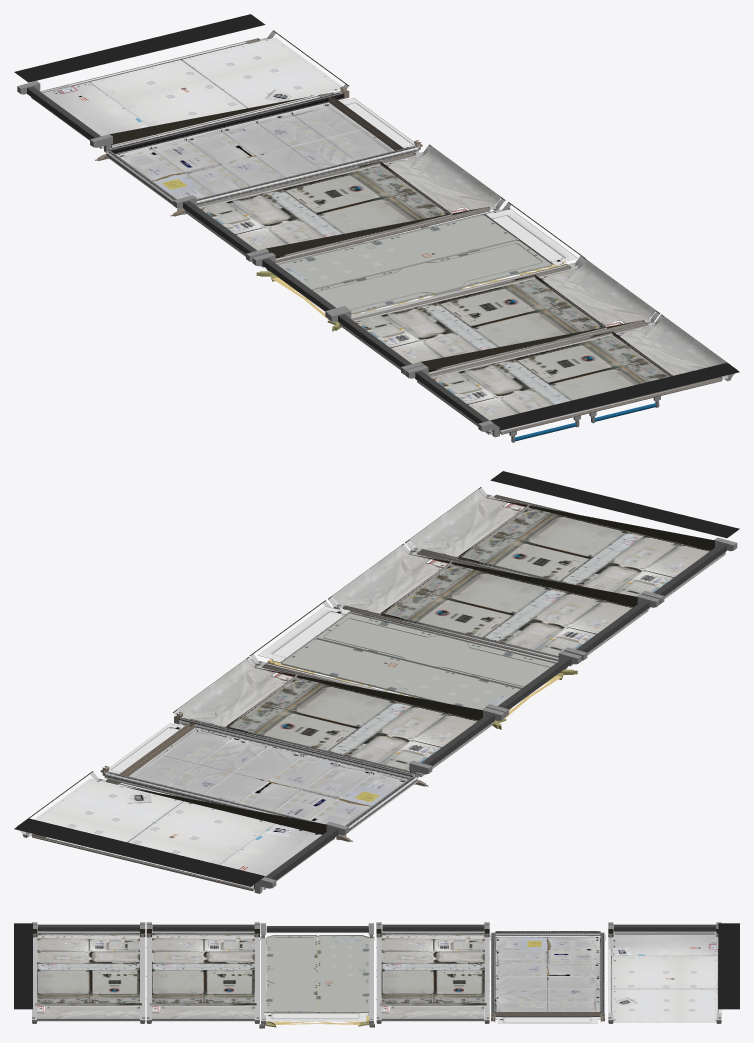
File: US_Lab_OverheadReduction.C.obj
3 views of the same model, one above another, from view 1: azimuth 30°, elevation 25°; view 2: azimuth 150°, elevation 25°; view 3: azimuth 270°, elevation 25° (orthographic). The views are drawn at different scales.
Size of the model in its own units: 2.05 by 0.2094 by 6.72.
26 materials, 14 textured.
